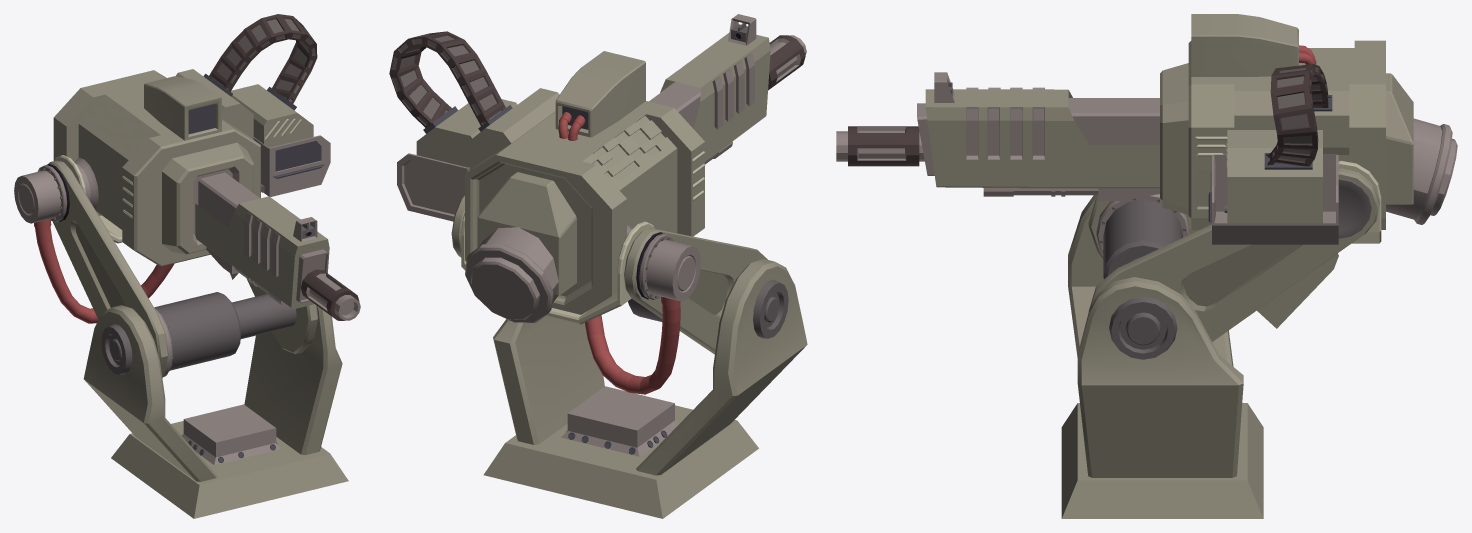
Rendered from weapon_shotgun.glb.
3 renders of one model, left to right at view 1: azimuth 30°, elevation 25°; view 2: azimuth 150°, elevation 25°; view 3: azimuth 270°, elevation 25°, orthographic. The views are drawn at different scales.
Visible parts, largest first — view 1: Cube.019, Cube, Cube.006, Plane.003, Cylinder.004, Cube.004, Cube.012, Cube.007, Cylinder.005, Cylinder.006, Cube.010, Cube.001 (+1 smaller); view 2: Cube.019, Cube, Cube.006, Cylinder, Plane.003, Cube.004, Cube.012, Cube.007, Cylinder.006, Cylinder.005, Cylinder.004, Cube.020 (+4 smaller); view 3: Cube.019, Cube, Cube.006, Plane.003, Cube.004, Cylinder.004, Cube.007, Cube.012, Cylinder, Cube.010, Cube.002, Cylinder.002 (+1 smaller).
Part boxes in pixels (x1,y1,x2,y2): Cube.019: (83, 305, 348, 518); Cube: (53, 69, 260, 266); Cube.006: (195, 172, 329, 309); Plane.003: (48, 160, 318, 377); Cylinder.004: (101, 292, 296, 377); Cube.004: (203, 73, 330, 196); Cube.012: (209, 14, 317, 103); Cube.007: (144, 76, 221, 140); Cylinder.005: (14, 157, 173, 371); Cylinder.006: (34, 219, 173, 323); Cube.010: (301, 269, 360, 320); Cube.001: (244, 211, 280, 277); Cube.019: (483, 259, 807, 518); Cube: (465, 88, 704, 314); Cube.006: (649, 33, 770, 161); Cylinder: (465, 227, 558, 322); Plane.003: (451, 195, 767, 354); Cube.004: (397, 99, 517, 221); Cube.012: (389, 31, 505, 127); Cube.007: (555, 51, 645, 137); Cylinder.006: (585, 296, 680, 394); Cylinder.005: (627, 225, 700, 301); Cylinder.004: (628, 279, 788, 338); Cube.020: (461, 213, 654, 324); Cube.019: (1061, 195, 1263, 518); Cube: (1160, 40, 1413, 229); Cube.006: (917, 89, 1159, 188); Plane.003: (1088, 168, 1379, 341); Cube.004: (1212, 95, 1338, 244); Cylinder.004: (1096, 178, 1371, 359); Cube.007: (1191, 14, 1298, 76); Cube.012: (1267, 64, 1328, 166); Cylinder: (1386, 118, 1457, 224); Cube.010: (836, 126, 924, 166); Cube.002: (1257, 253, 1338, 328); Cylinder.002: (983, 188, 1098, 196).
Bounding box in the file's own units: 4.41 × 6.13 × 7.33.
